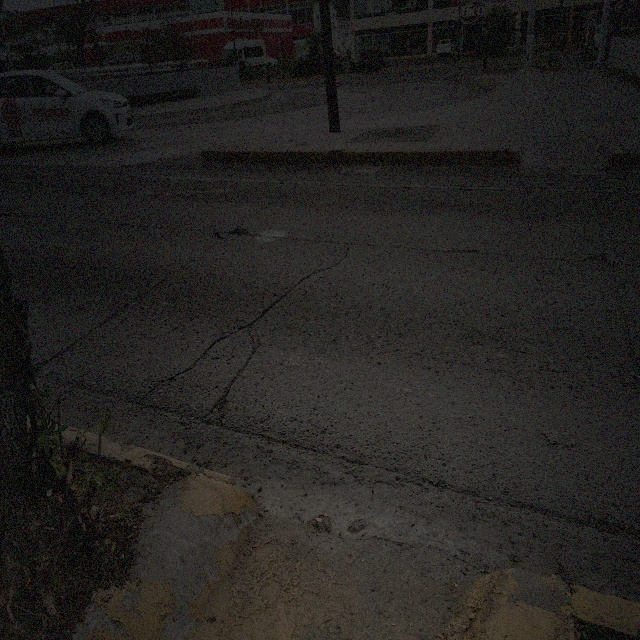pothole: (211, 392, 232, 420), (229, 224, 250, 236)
